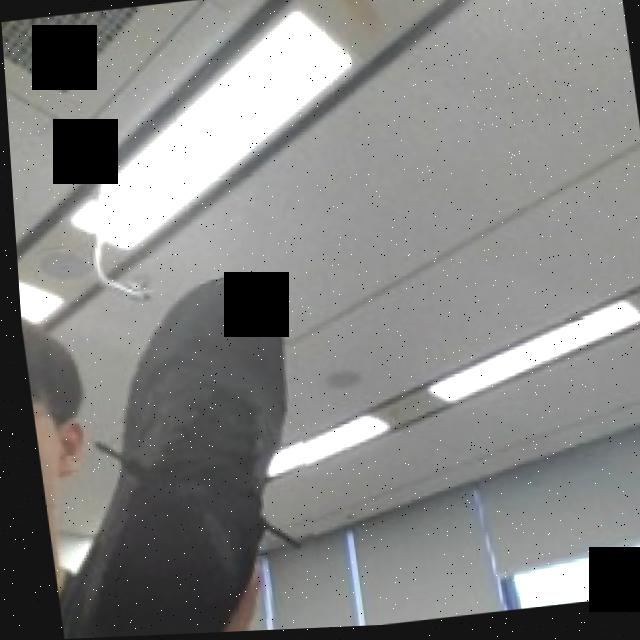shoe: (13, 245, 322, 640)
